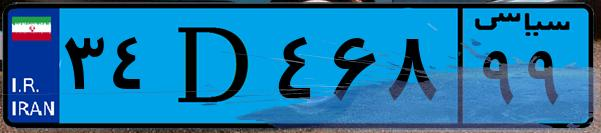3: (57, 26, 110, 100)
4: (270, 28, 330, 110), (110, 28, 158, 98)
6: (330, 28, 385, 110)
8: (385, 28, 445, 110)
9: (475, 38, 525, 113), (525, 38, 570, 115)
D: (158, 12, 270, 120)
